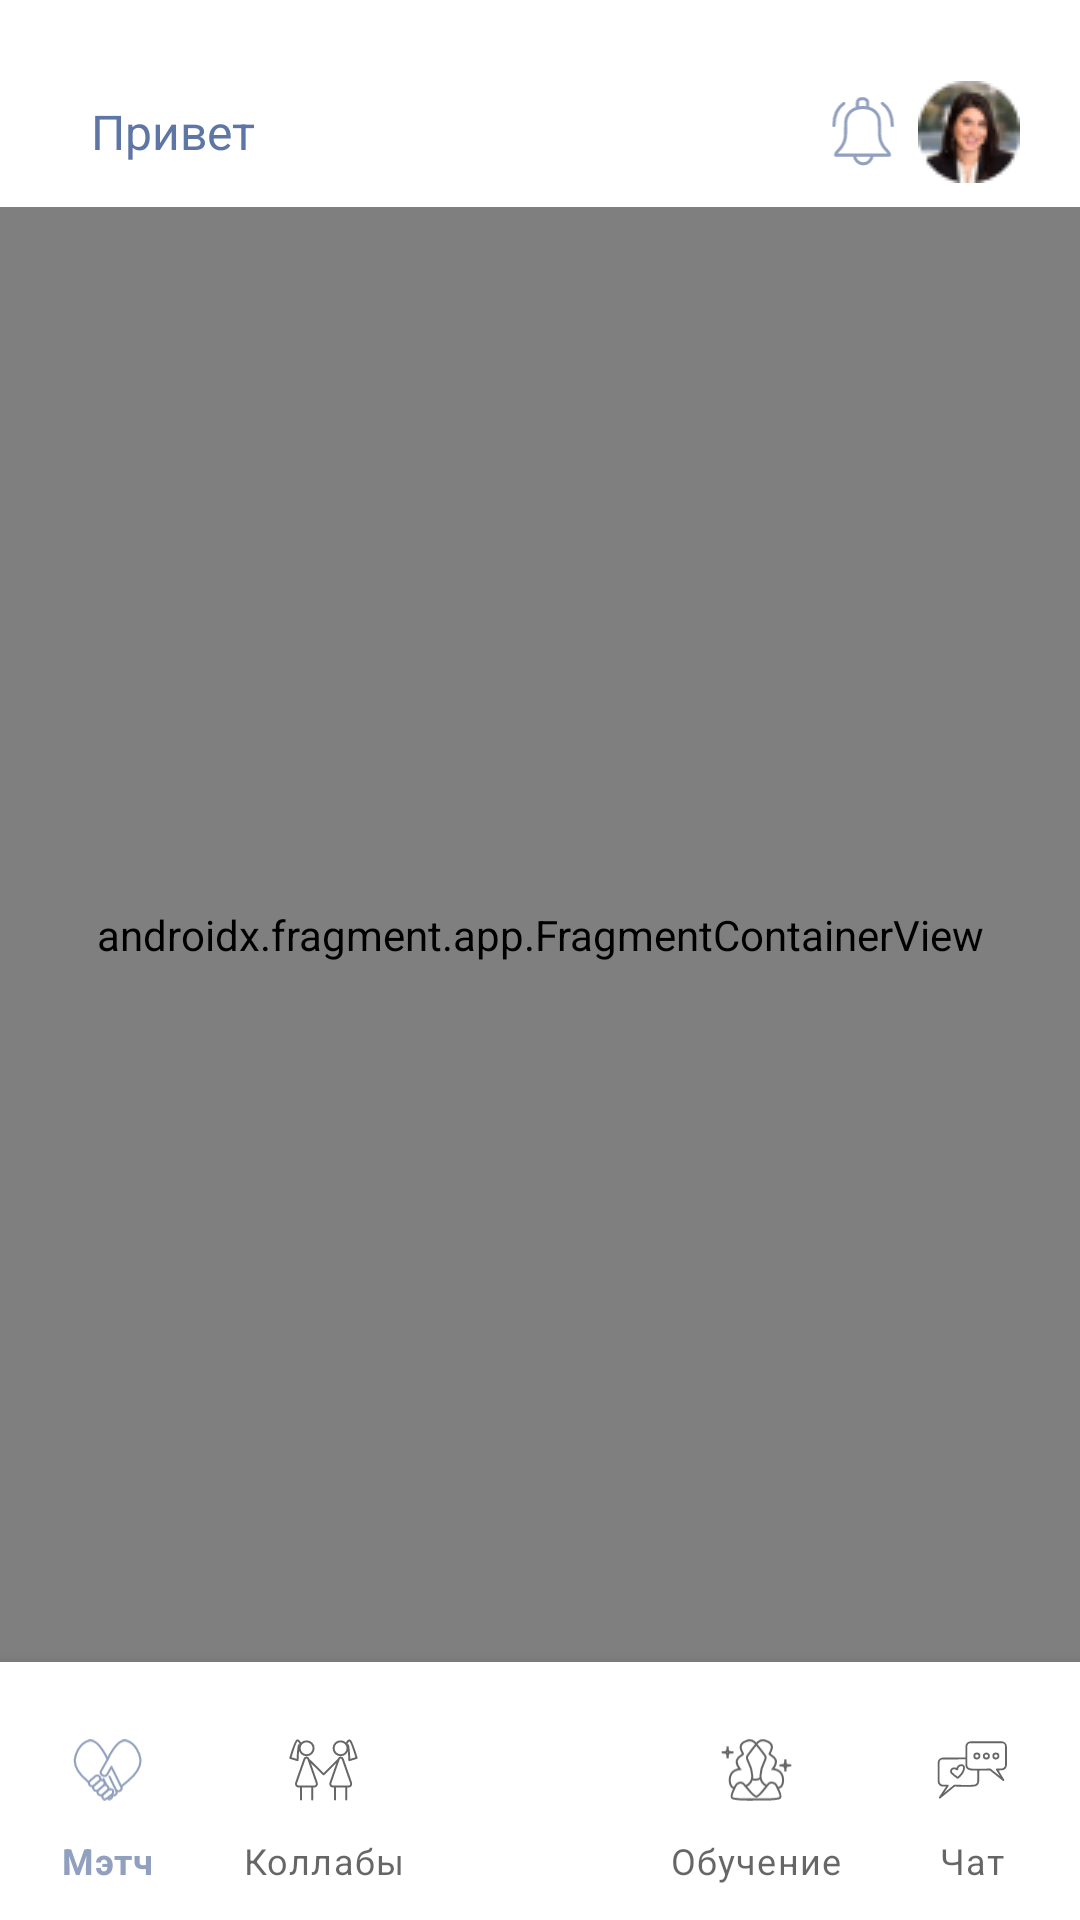

Named icons in this screenshot (1080x1920) and their centers, [x,y]:
notification: [863,131]
